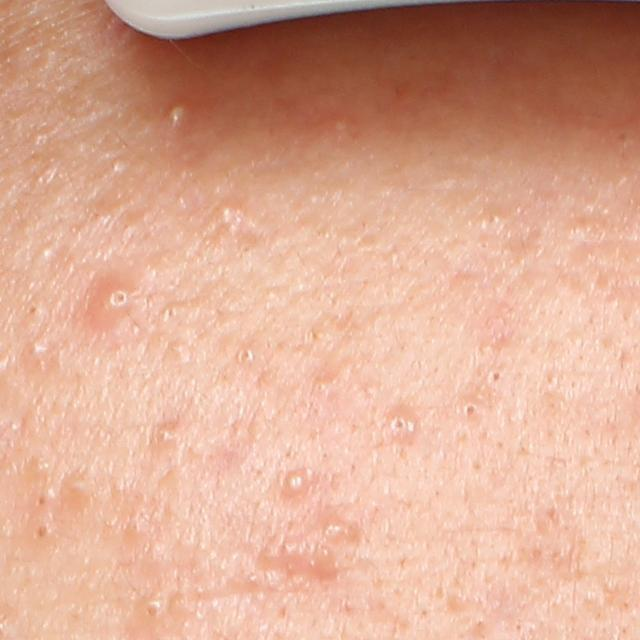atrophic_scar: (283, 506, 365, 548), (251, 547, 336, 579), (190, 577, 263, 609)
comedo: (380, 410, 415, 442), (131, 596, 162, 631), (61, 471, 92, 505), (24, 334, 55, 366), (122, 509, 152, 540), (164, 333, 192, 365), (155, 305, 189, 328), (17, 297, 47, 322), (31, 517, 58, 544), (31, 240, 57, 266), (457, 396, 482, 422), (214, 200, 237, 226), (234, 342, 259, 365), (106, 157, 129, 179), (31, 486, 55, 506), (155, 424, 177, 445), (323, 519, 344, 540), (485, 364, 503, 387)
papule: (76, 275, 136, 338)
pustule: (154, 95, 206, 141), (281, 468, 313, 502)
